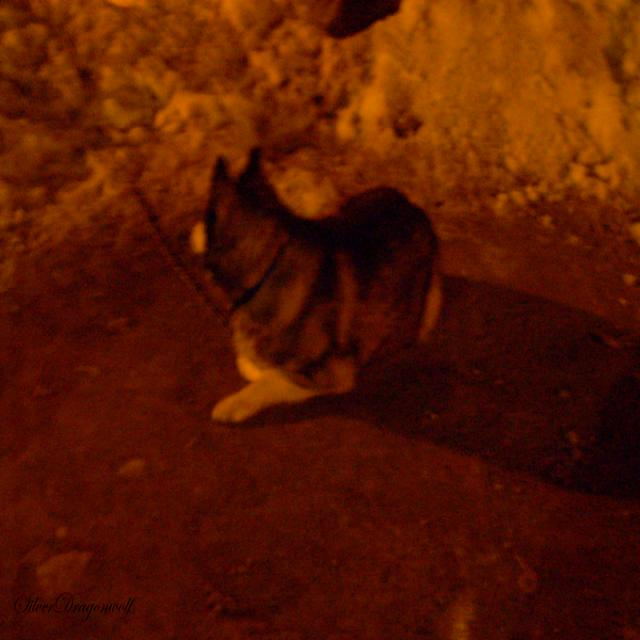dog: (182, 134, 489, 438)
